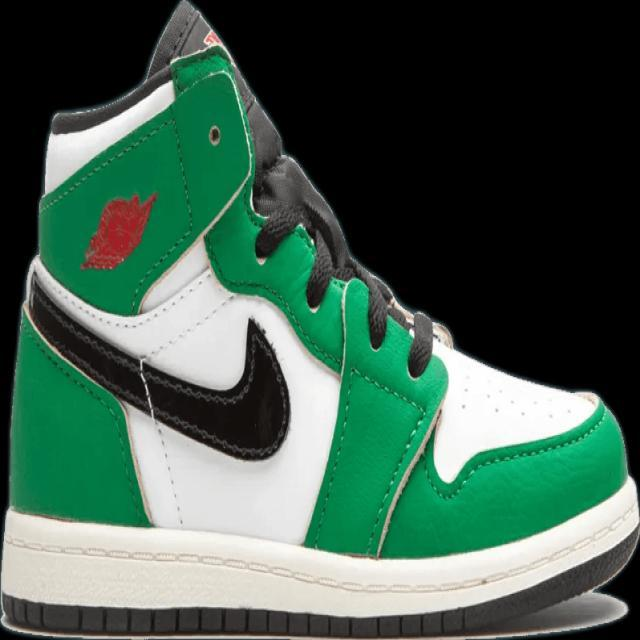J1_InsoleChar: (0, 0, 639, 639)
J1_ShoeLogo: (78, 190, 158, 272)
J1_StitchPattern: (142, 0, 452, 378), (0, 492, 638, 635), (21, 267, 291, 462), (252, 151, 453, 377), (24, 278, 189, 528), (0, 591, 632, 639), (365, 399, 447, 560), (352, 266, 453, 378), (132, 355, 187, 529), (140, 0, 222, 81)
